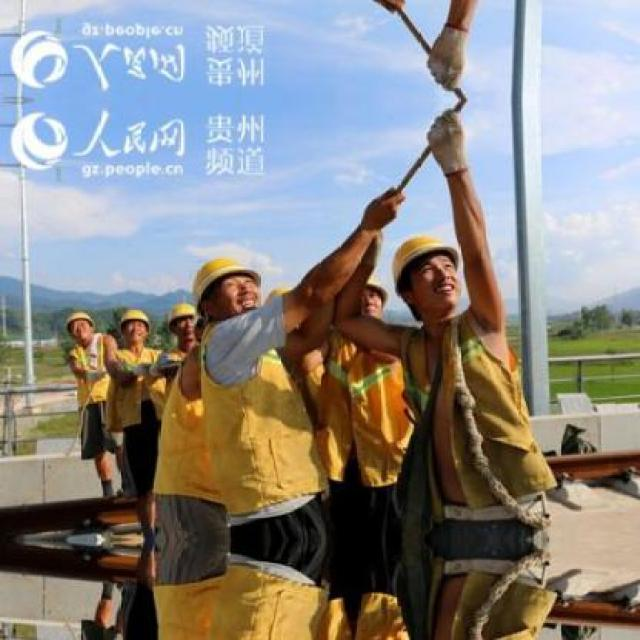helmet: (386, 224, 469, 323), (183, 244, 266, 324), (342, 266, 387, 322), (116, 304, 156, 348), (164, 299, 199, 344), (61, 309, 95, 346)
